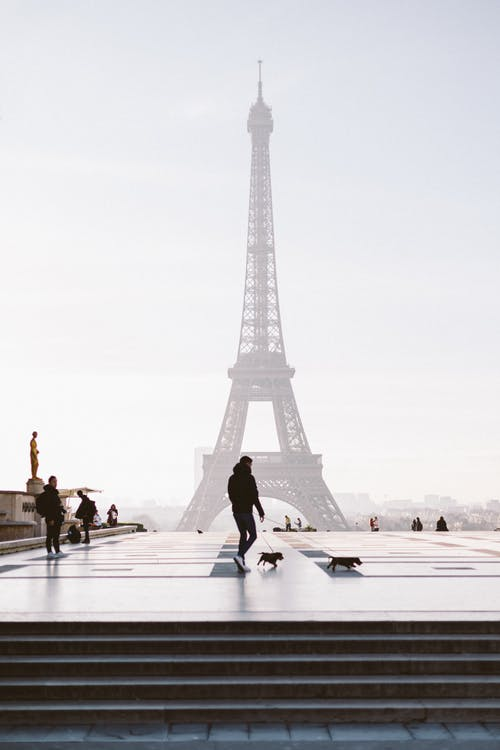eiffel tower: (180, 42, 348, 545)
